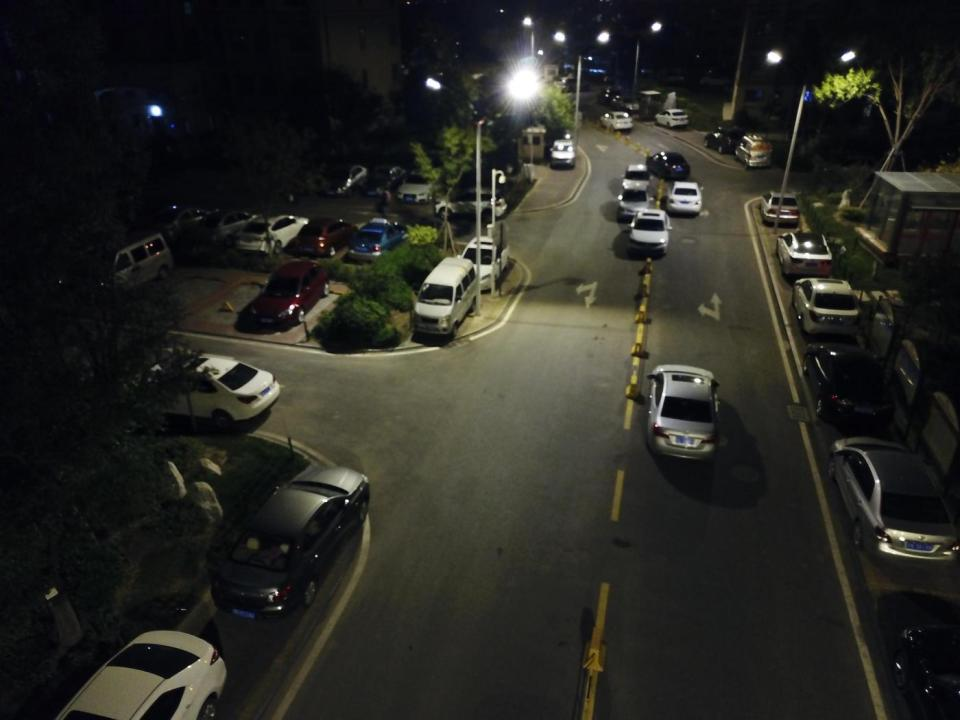car: (209, 461, 370, 619), (825, 434, 960, 570), (50, 629, 228, 720), (117, 351, 279, 428), (801, 340, 895, 432), (645, 364, 722, 462), (247, 256, 330, 330), (789, 272, 866, 340), (435, 179, 509, 224), (457, 230, 511, 291), (237, 210, 308, 256), (775, 231, 834, 281), (345, 215, 404, 264), (147, 198, 221, 237), (298, 214, 361, 258), (197, 205, 264, 246), (626, 206, 673, 254), (318, 156, 366, 203), (359, 158, 406, 200), (395, 162, 442, 204), (760, 188, 802, 228), (612, 175, 652, 217), (703, 123, 749, 155), (665, 180, 705, 215), (645, 151, 691, 179), (548, 136, 577, 171), (600, 107, 635, 133), (655, 106, 690, 129), (596, 82, 626, 107), (617, 165, 651, 187), (612, 94, 644, 114)
van: (88, 228, 175, 298), (410, 256, 478, 341), (734, 134, 774, 170)
